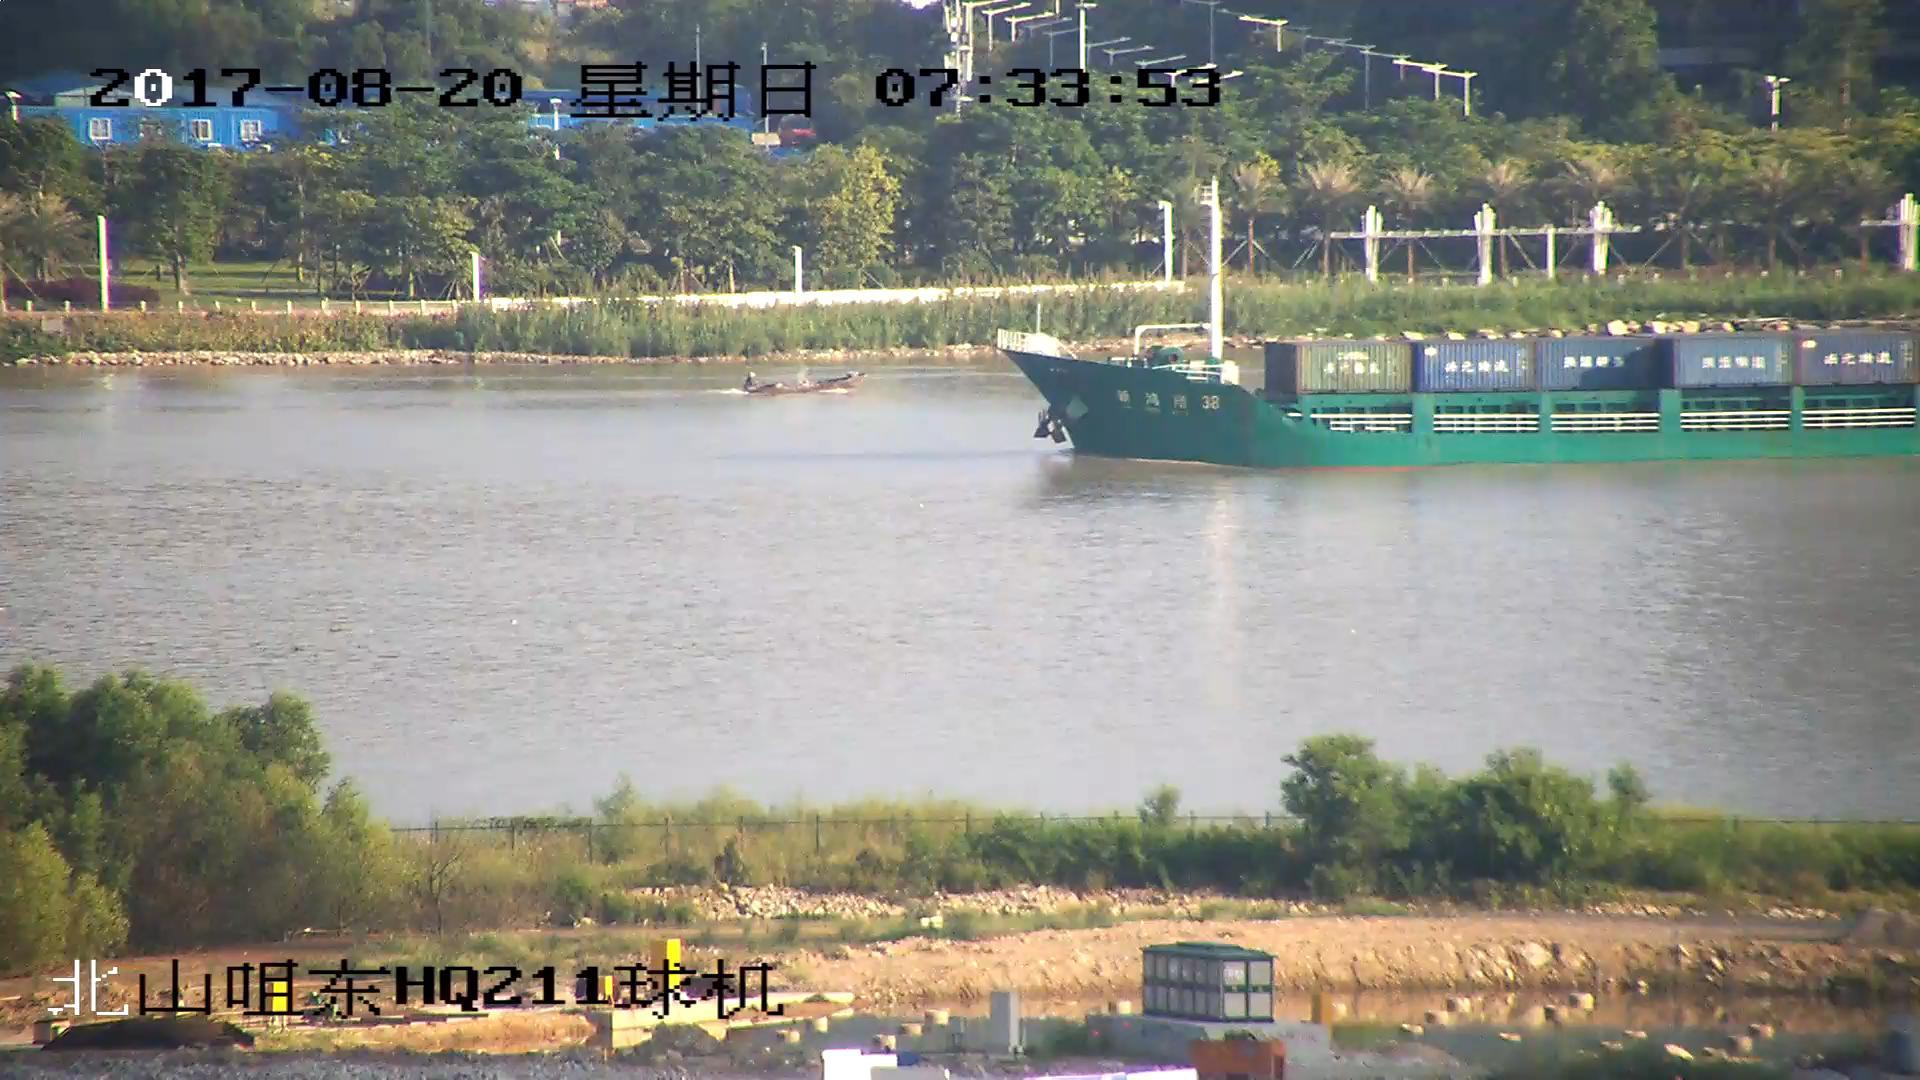Ship: (994, 179, 1920, 473), (742, 368, 869, 402)
